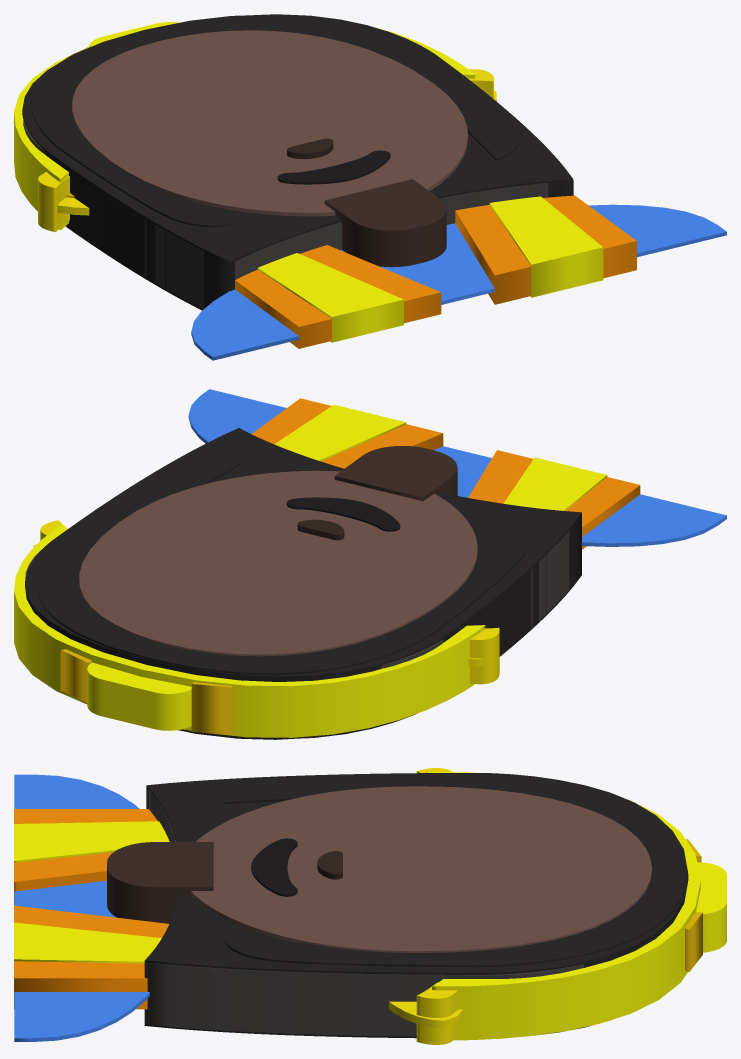
Rendered from emoji_u1f477_1f3ff_200d_2640.glb.
3 views of the same model, one above another, from view 1: azimuth 30°, elevation 25°; view 2: azimuth 150°, elevation 25°; view 3: azimuth 270°, elevation 25° (orthographic). The views are drawn at different scales.
Visible parts, largest first — view 1: emoji_u1f477_1f3ff_200d_2640; view 2: emoji_u1f477_1f3ff_200d_2640; view 3: emoji_u1f477_1f3ff_200d_2640.
Part boxes in pixels (x1,y1,x2,y2): emoji_u1f477_1f3ff_200d_2640: [14, 14, 726, 360]; emoji_u1f477_1f3ff_200d_2640: [14, 389, 726, 739]; emoji_u1f477_1f3ff_200d_2640: [14, 768, 726, 1044].
Bounding box in the file's own units: 0.0294 × 0.0044 × 0.0335.
